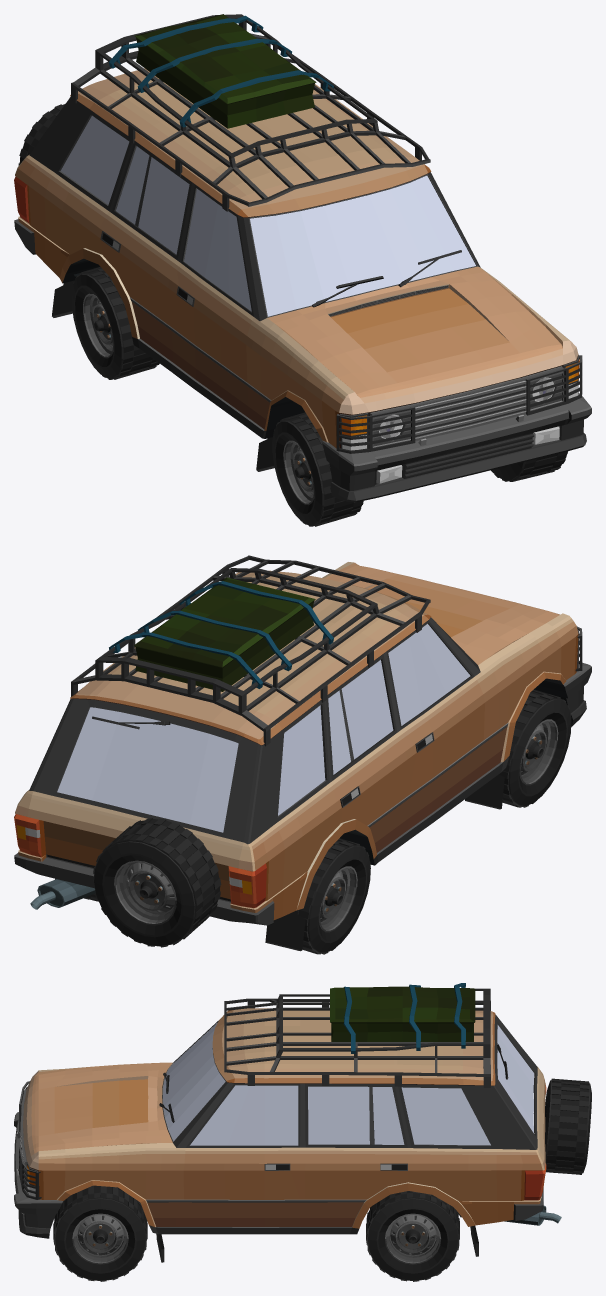
The model's file is range-rover.glb.
The picture shows the model from 3 angles, top to bottom: view 1: azimuth 30°, elevation 25°; view 2: azimuth 150°, elevation 25°; view 3: azimuth 270°, elevation 25°; orthographic projection. The views are drawn at different scales.
Parts seen in each view (by area): view 1: Car, Car.002; view 2: Car, Car.002; view 3: Car, Car.002.
Part boxes in pixels (x1=…): Car: x1=14, y1=14, x2=591, y2=526; Car.002: x1=60, y1=115, x2=475, y2=316; Car: x1=14, y1=555, x2=591, y2=954; Car.002: x1=57, y1=624, x2=470, y2=832; Car: x1=14, y1=983, x2=591, y2=1281; Car.002: x1=163, y1=1022, x2=534, y2=1145.
Size of the model in its own units: 2.56 by 2.92 by 6.49.
Materials: 2 (1 with a texture image).
